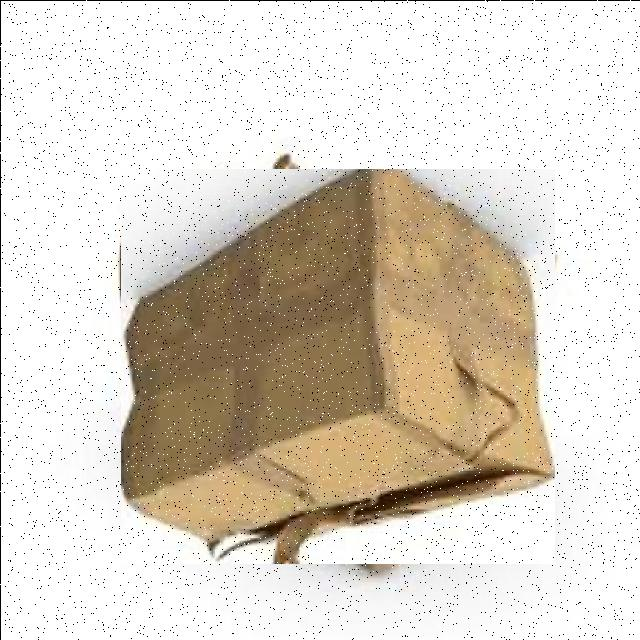defect: (120, 168, 554, 563)
